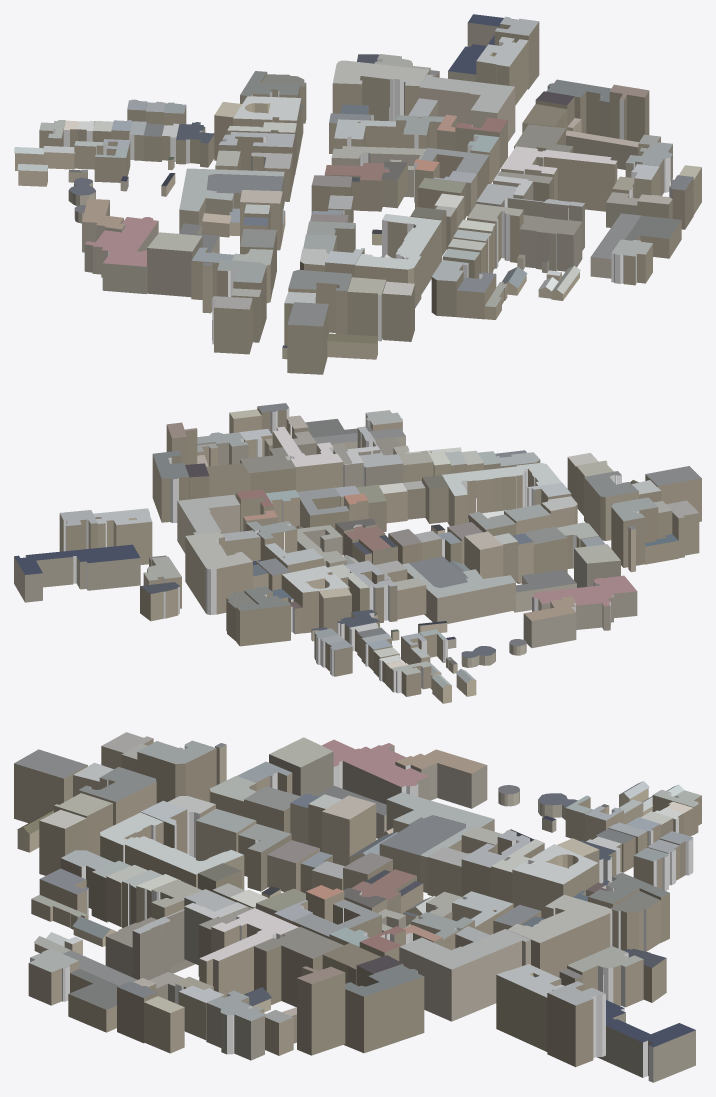
3 renders of one model, top to bottom at view 1: azimuth 30°, elevation 25°; view 2: azimuth 150°, elevation 25°; view 3: azimuth 270°, elevation 25°, orthographic. The views are drawn at different scales.
Parts seen in each view (by area): view 1: tuile; view 2: tuile; view 3: tuile.
Part boxes in pixels (left/top/right/bottom): tuile: left=14, top=14, right=701, bottom=374; tuile: left=14, top=403, right=701, bottom=703; tuile: left=14, top=732, right=701, bottom=1082.
Bounding box in the file's own units: 289 × 39.58 × 268.
